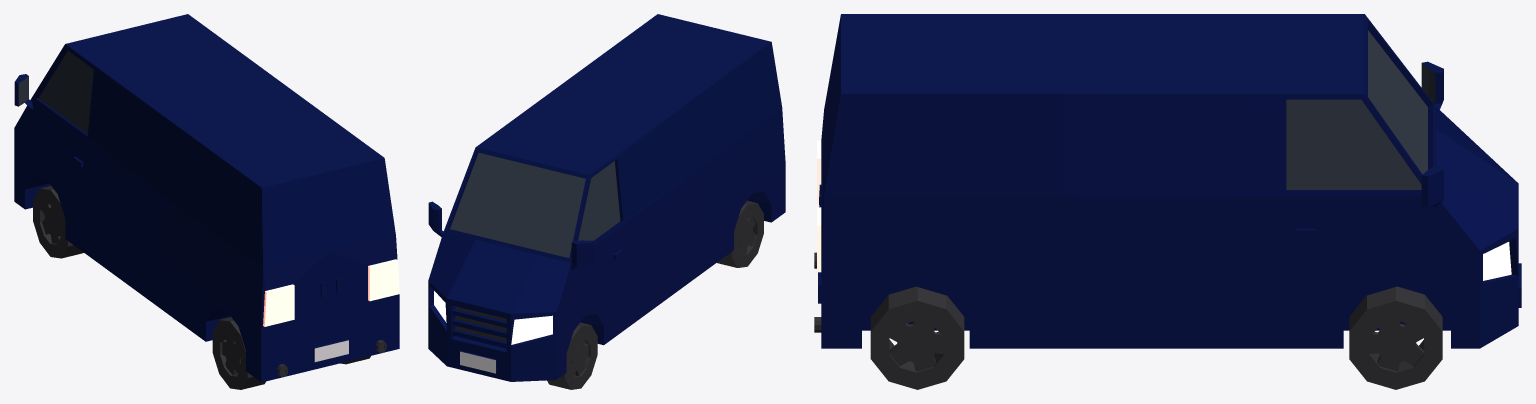
File: rv_van.glb
3 views of the same model, side by side, from view 1: azimuth 30°, elevation 25°; view 2: azimuth 150°, elevation 25°; view 3: azimuth 270°, elevation 25° (orthographic). The views are drawn at different scales.
Parts seen in each view (by area): view 1: Body, WheelRL, WheelFL; view 2: Body, WheelFL, WheelRL; view 3: Body, WheelRR, WheelFR.
Part boxes in pixels (x1=…): Body: x1=14, y1=14, x2=399, y2=382; WheelRL: x1=212, y1=317, x2=265, y2=389; WheelFL: x1=33, y1=186, x2=83, y2=258; Body: x1=428, y1=14, x2=785, y2=381; WheelFL: x1=547, y1=322, x2=597, y2=389; WheelRL: x1=717, y1=200, x2=763, y2=267; Body: x1=814, y1=14, x2=1521, y2=348; WheelRR: x1=870, y1=286, x2=964, y2=389; WheelFR: x1=1349, y1=286, x2=1442, y2=389.
Size of the model in its own units: 2 by 2.39 by 5.2.
